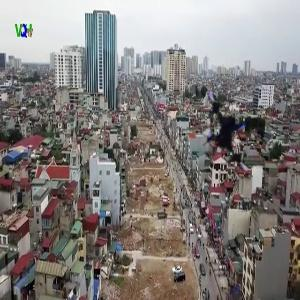drone: (190, 76, 288, 174)
